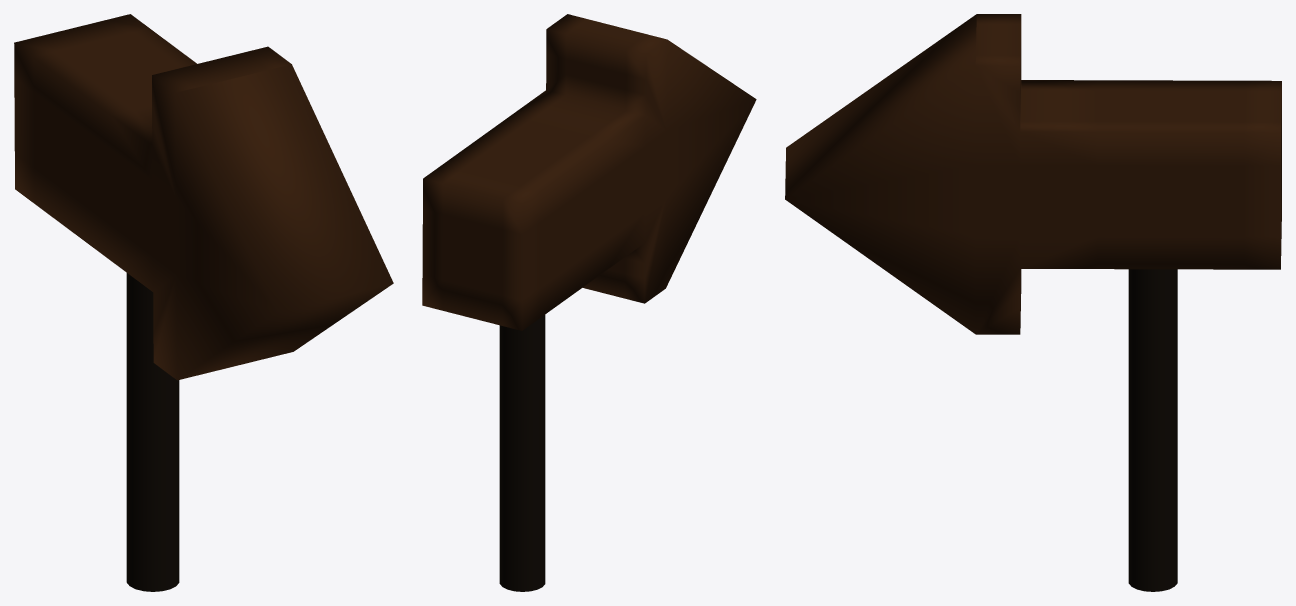
Rendered from Cartel.fbx.
3 views of the same model, side by side, from view 1: azimuth 30°, elevation 25°; view 2: azimuth 150°, elevation 25°; view 3: azimuth 270°, elevation 25° (orthographic). The views are drawn at different scales.
Parts seen in each view (by area): view 1: Box002, Cylinder001; view 2: Box002, Cylinder001; view 3: Box002, Cylinder001.
Boxes of the visible parts, x1,y1,x2,y2 form: Box002: (14, 14, 393, 380); Cylinder001: (126, 273, 179, 591); Box002: (422, 14, 756, 330); Cylinder001: (499, 315, 545, 591); Box002: (785, 14, 1281, 334); Cylinder001: (1128, 269, 1177, 591).
Size of the model in its own units: 0.5181 by 2 by 2.37.
